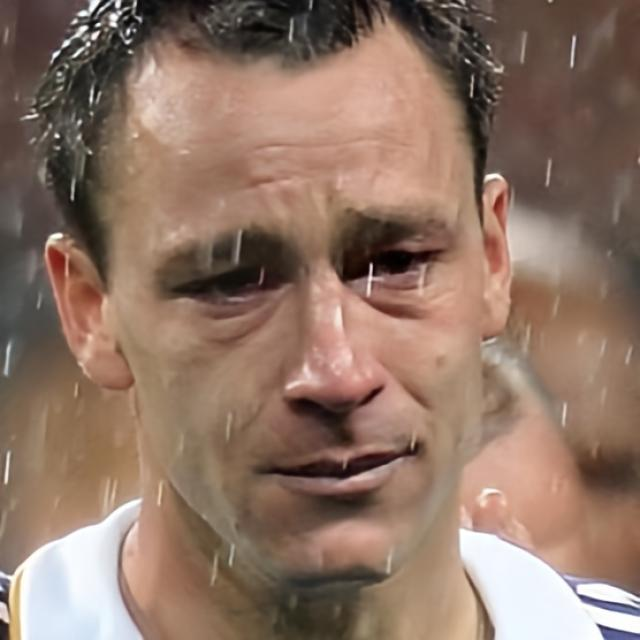sad: (102, 62, 480, 599)
